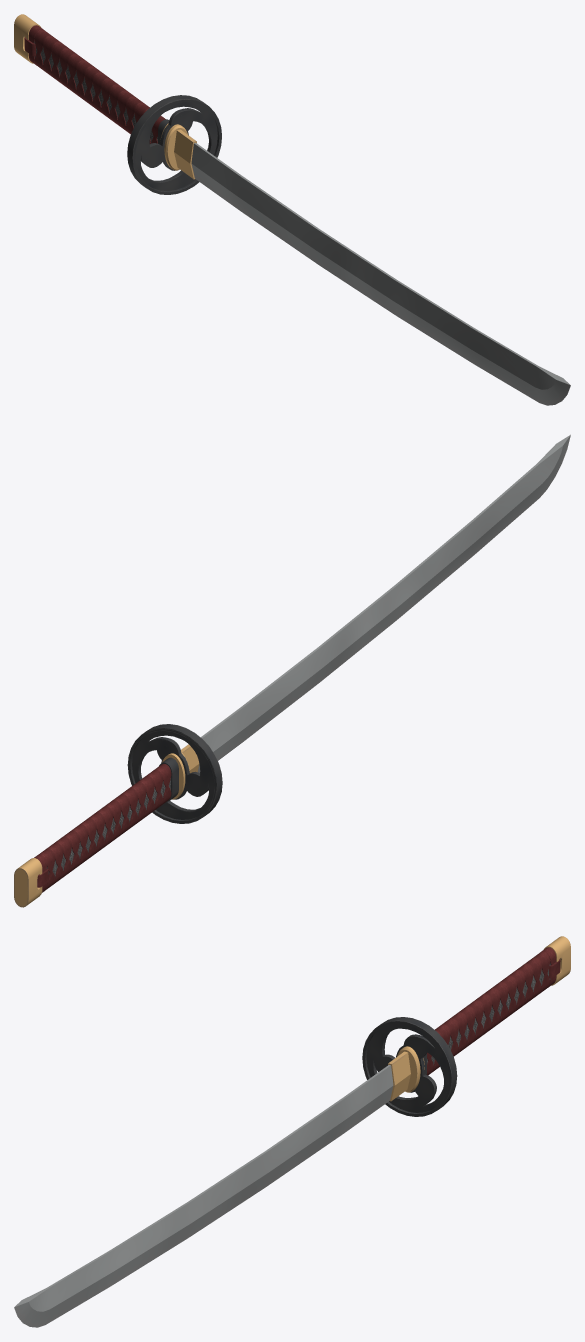
Rendered from Katana.gltf.
The picture shows the model from 3 angles, top to bottom: view 1: azimuth 30°, elevation 25°; view 2: azimuth 150°, elevation 25°; view 3: azimuth 330°, elevation 25°; orthographic projection.
Parts seen in each view (by area): view 1: jamon_low, tsuba_low, tsuka-ito_low, habaki_low, tsuka_low, kasira_low, habaki_01_low.; view 2: jamon_low, tsuka-ito_low, tsuba_low, kasira_low, tsuka_low; view 3: jamon_low, tsuba_low, tsuka-ito_low, habaki_low, tsuka_low, kasira_low, habaki_01_low..
Boxes of the visible parts, x1,y1,x2,y2 form: jamon_low: [191, 143, 570, 405]; tsuba_low: [127, 95, 221, 194]; tsuka-ito_low: [34, 29, 165, 143]; habaki_low: [174, 129, 196, 179]; tsuka_low: [34, 41, 157, 143]; kasira_low: [14, 14, 41, 63]; habaki_01_low.: [160, 123, 187, 170]; jamon_low: [198, 434, 570, 772]; tsuka-ito_low: [38, 764, 171, 889]; tsuba_low: [127, 724, 222, 823]; kasira_low: [14, 858, 42, 907]; tsuka_low: [46, 778, 170, 876]; jamon_low: [14, 1065, 393, 1327]; tsuba_low: [362, 1017, 457, 1116]; tsuka-ito_low: [426, 951, 550, 1075]; habaki_low: [388, 1051, 410, 1101]; tsuka_low: [427, 963, 550, 1065]; kasira_low: [543, 936, 570, 985]; habaki_01_low.: [397, 1046, 424, 1092].
Bounding box in the file's own units: 0.1148 × 0.1182 × 1.22.
1 material, 1 textured.
